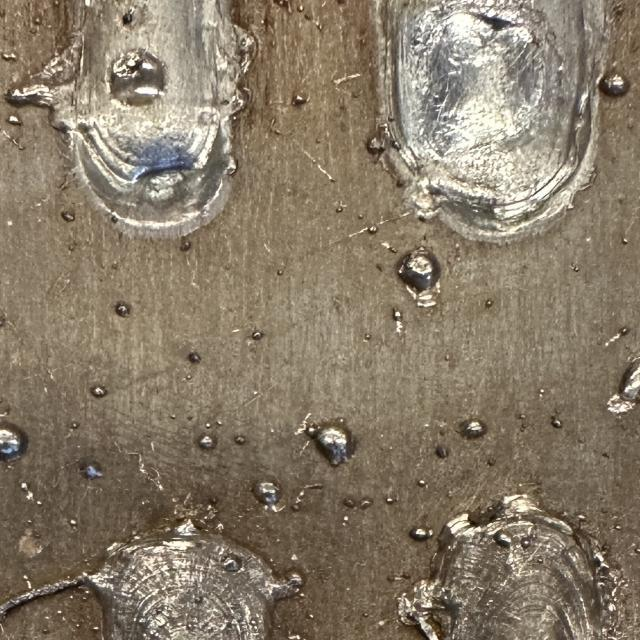Excess Reinforcement: (7, 33, 84, 133), (0, 564, 114, 621), (473, 494, 574, 536), (593, 549, 638, 639), (398, 580, 450, 640), (234, 24, 258, 86), (437, 513, 475, 552), (380, 146, 417, 186), (270, 572, 303, 601), (410, 190, 440, 221), (161, 519, 208, 536), (232, 87, 248, 114)
Spatters: (398, 246, 442, 308), (305, 421, 355, 465), (607, 359, 640, 414), (315, 425, 353, 466), (0, 422, 28, 461), (252, 481, 280, 511), (292, 484, 323, 511), (598, 72, 630, 97), (460, 419, 487, 439), (603, 328, 630, 346), (220, 552, 242, 572), (80, 461, 103, 479), (365, 135, 385, 155), (342, 498, 372, 509), (493, 530, 512, 547), (115, 300, 132, 318), (410, 528, 433, 541), (198, 435, 217, 450), (20, 482, 35, 501), (393, 309, 403, 334), (90, 385, 108, 398), (435, 445, 450, 459), (60, 210, 75, 222), (180, 236, 192, 251), (187, 351, 202, 363), (292, 95, 308, 104), (552, 416, 563, 429), (233, 435, 247, 445), (7, 115, 22, 124), (520, 538, 532, 549), (252, 330, 263, 340), (367, 225, 378, 233), (417, 480, 427, 488), (70, 421, 80, 429), (570, 264, 580, 272), (385, 498, 397, 504), (485, 299, 493, 308), (518, 413, 529, 419), (487, 459, 495, 466), (68, 520, 77, 526), (335, 206, 343, 212), (538, 388, 546, 394), (613, 525, 622, 530), (81, 596, 88, 602), (42, 629, 50, 634), (622, 238, 628, 244), (365, 334, 372, 339), (205, 422, 210, 428), (75, 624, 82, 628), (277, 270, 283, 274), (94, 626, 100, 630), (35, 501, 42, 504), (358, 215, 363, 219)
